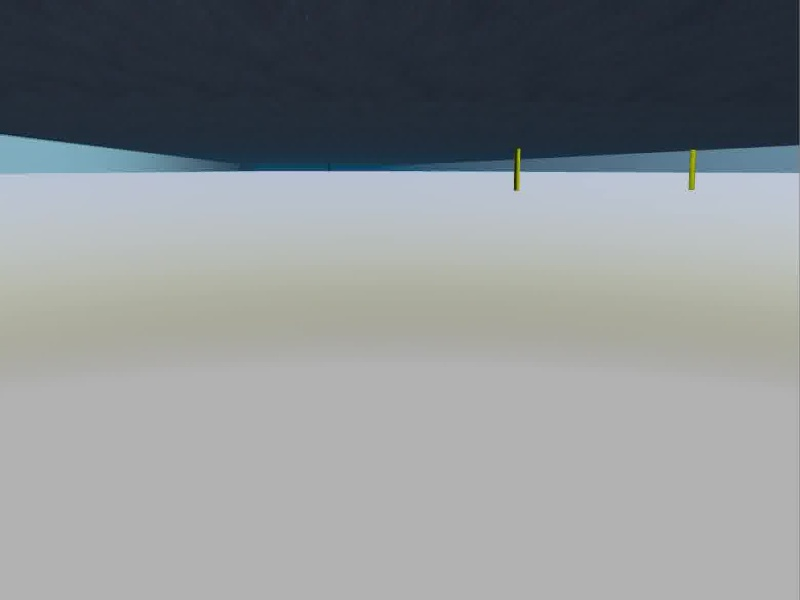gate: (512, 147, 697, 193)
